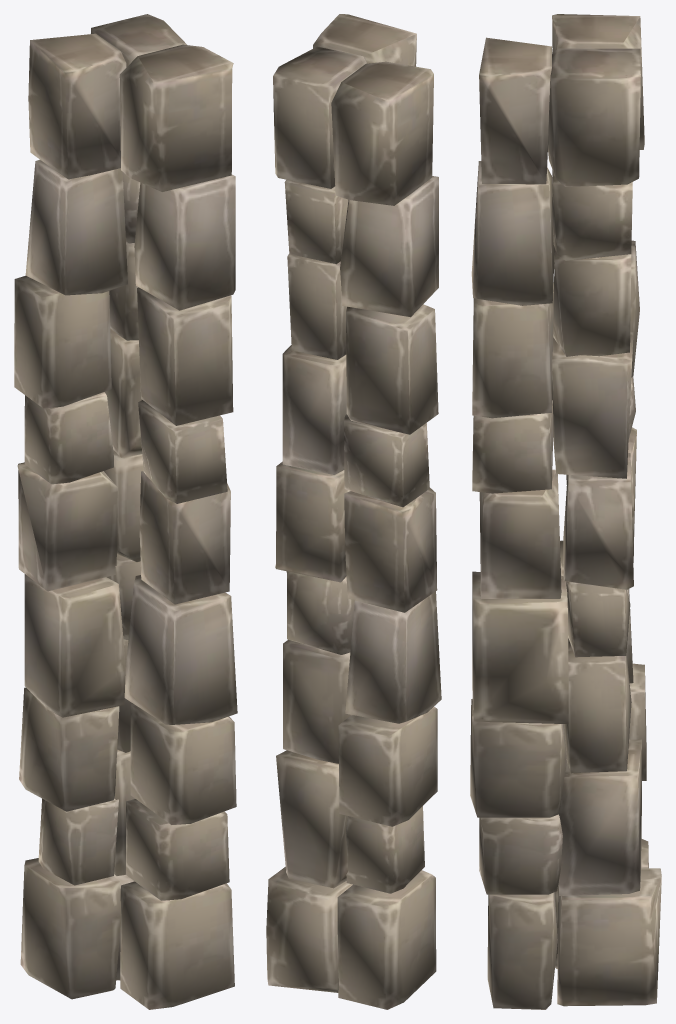
File: pillar.glb
3 renders of one model, left to right at view 1: azimuth 30°, elevation 25°; view 2: azimuth 150°, elevation 25°; view 3: azimuth 270°, elevation 25°, orthographic. The views are drawn at different scales.
Visible parts, largest first — view 1: Corner_Exterior_Brick; view 2: Corner_Exterior_Brick; view 3: Corner_Exterior_Brick.
Part boxes in pixels (bbox=[...]): Corner_Exterior_Brick: bbox=[14, 14, 237, 1009]; Corner_Exterior_Brick: bbox=[266, 14, 441, 1009]; Corner_Exterior_Brick: bbox=[470, 14, 661, 1009].
Bounding box in the file's own units: 0.5249 × 3.01 × 0.5599.
1 material, 1 textured.
